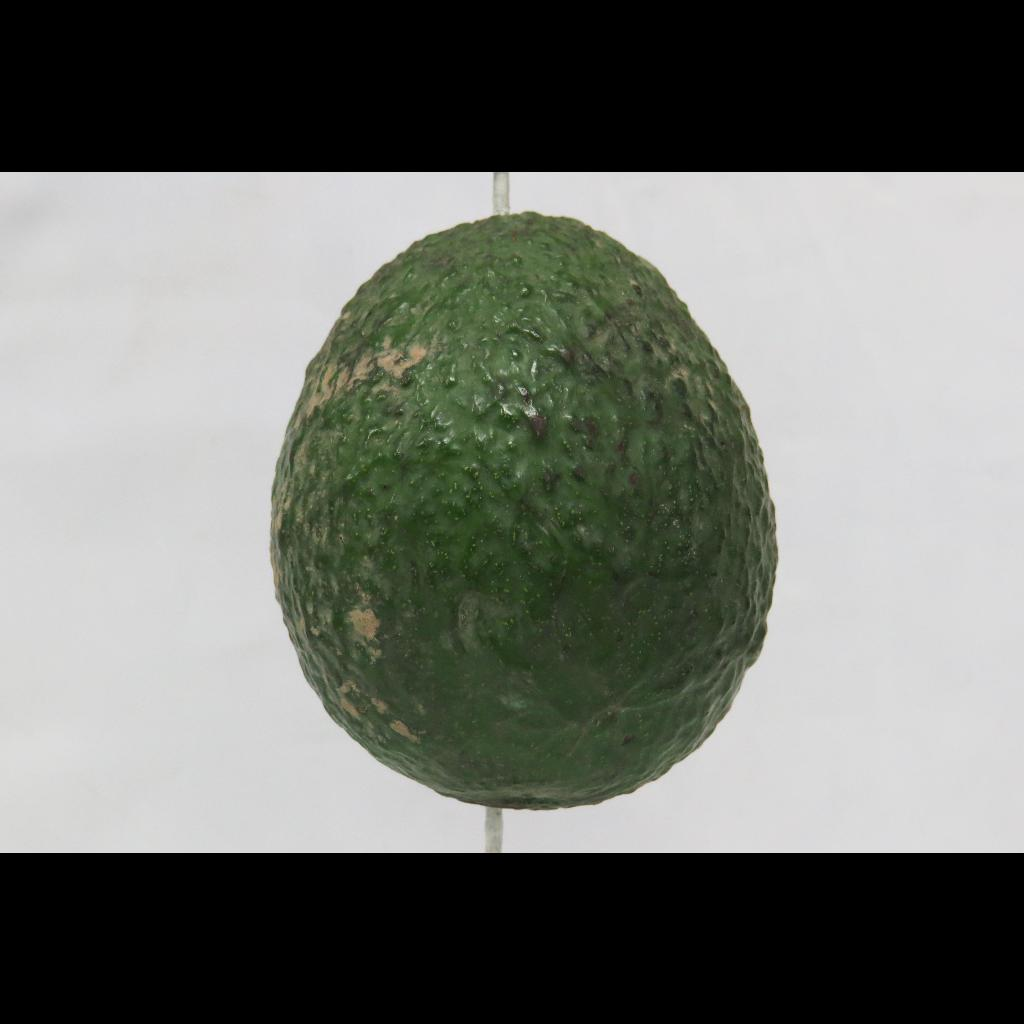fruto_sano: (213, 193, 814, 839)
